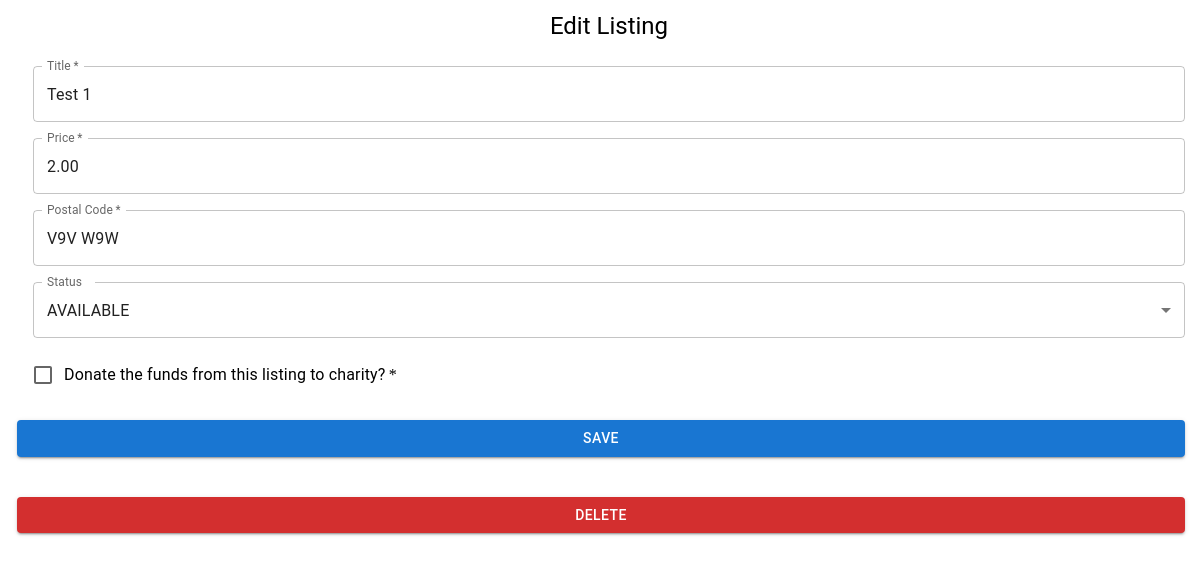
it: ManageListing page › validation on an empty title
Clear the field labelled "Title *" at [609, 94], box 33,66 -> 1185,122
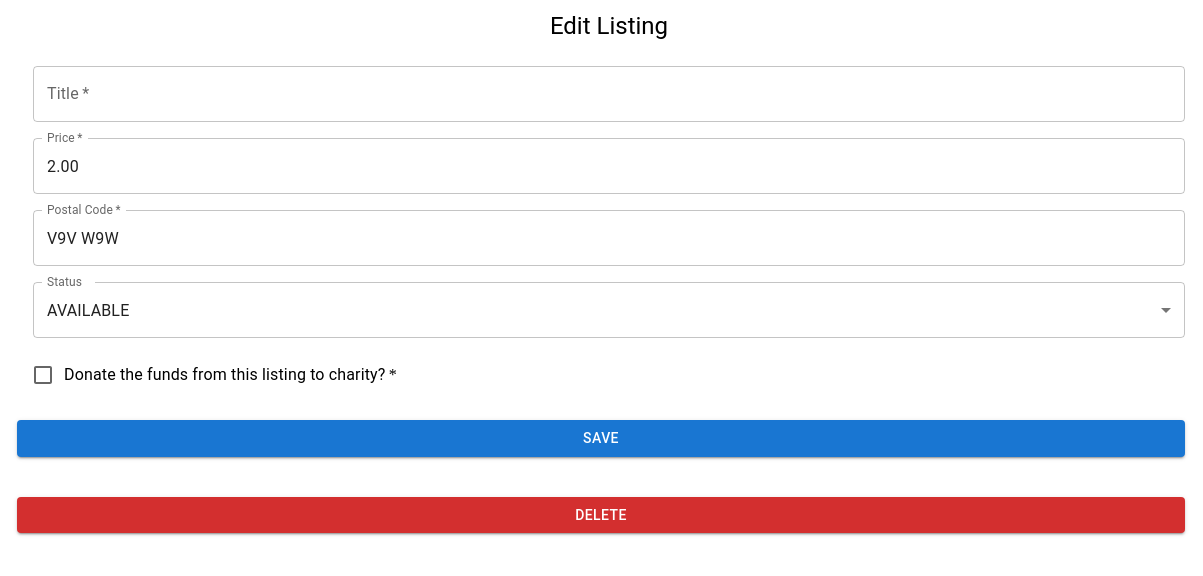
Leave the field labelled "Title *", box 33,66 -> 1185,122
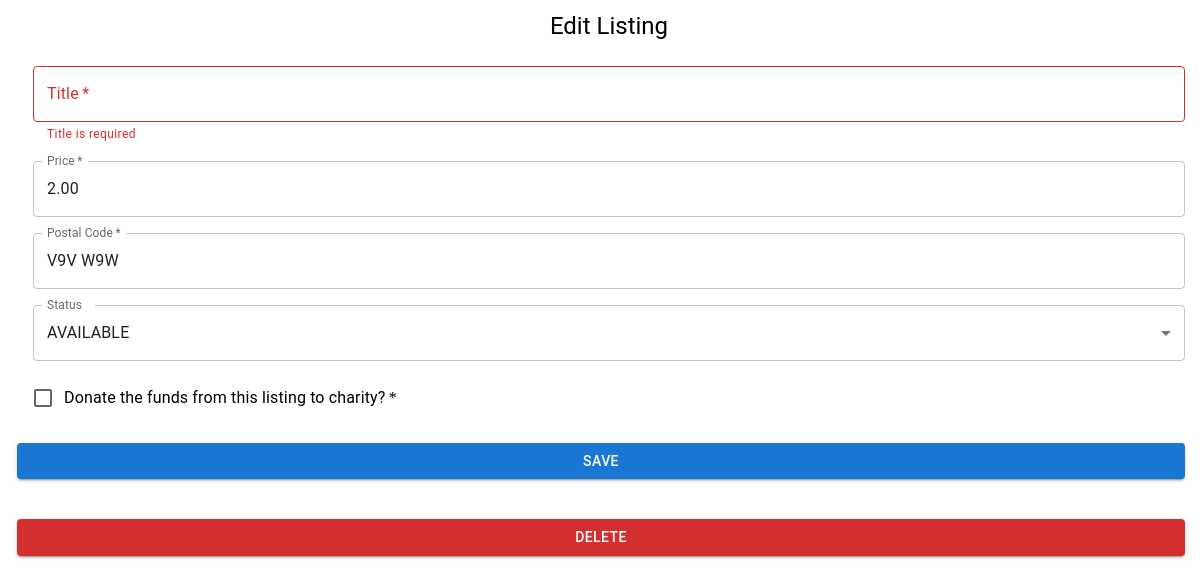
Expected: the text "Title is required" is shown, 47,127 -> 136,141
